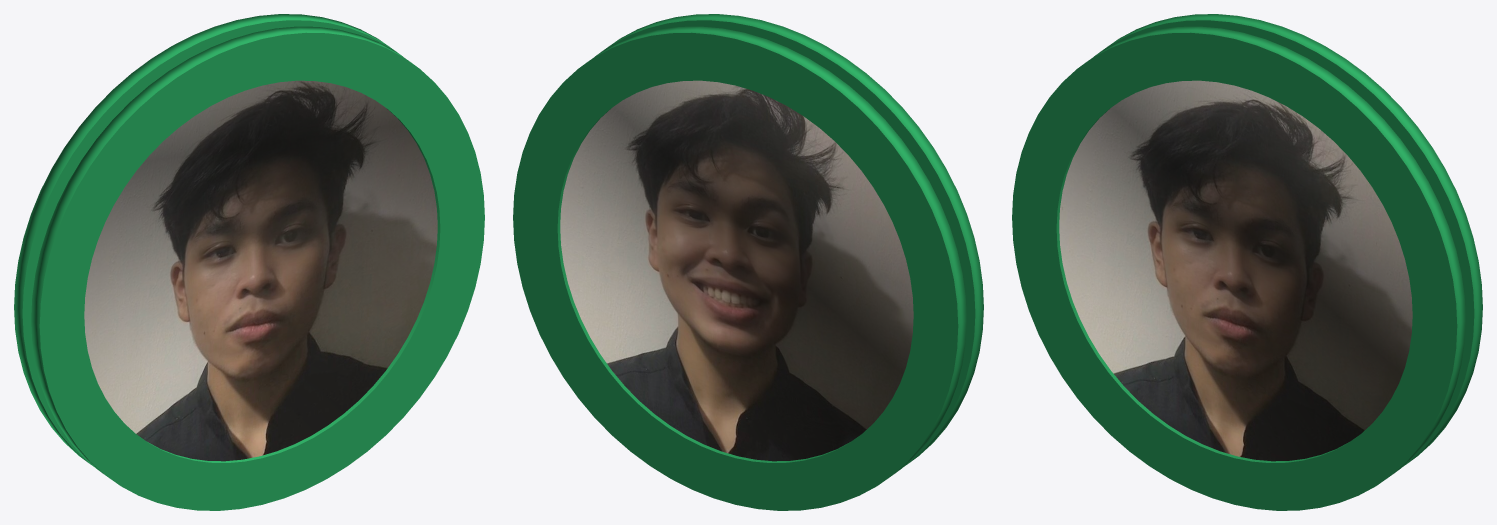
File: Circular-Frame.glb
3 views of the same model, side by side, from view 1: azimuth 30°, elevation 25°; view 2: azimuth 150°, elevation 25°; view 3: azimuth 330°, elevation 25° (orthographic).
Parts seen in each view (by area): view 1: Cylinder; view 2: Cylinder; view 3: Cylinder.
Part boxes in pixels (box(x1,y1,x2,y2)): Cylinder: box(14, 14, 484, 510); Cylinder: box(513, 14, 983, 510); Cylinder: box(1012, 14, 1482, 510).
Size of the model in its own units: 2 by 2 by 0.2.
Materials: 3 (2 with a texture image).
